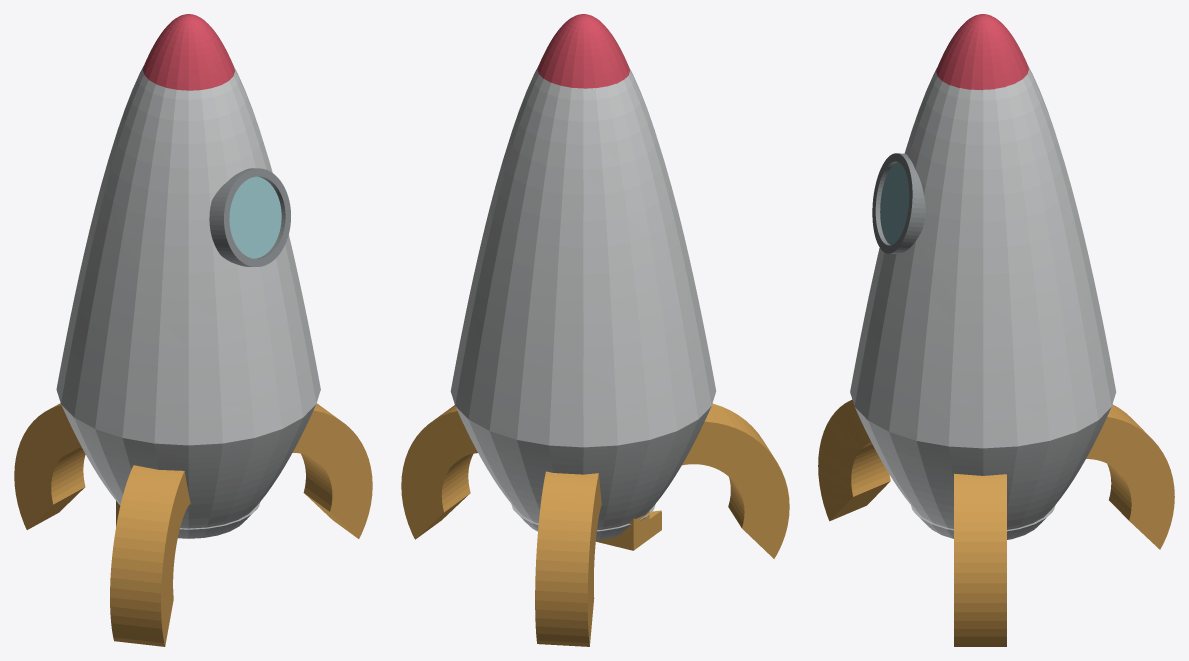
File: Rocket.glb
3 renders of one model, left to right at view 1: azimuth 30°, elevation 25°; view 2: azimuth 150°, elevation 25°; view 3: azimuth 270°, elevation 25°, orthographic.
Parts seen in each view (by area): view 1: Mesh_Mesh_head_geo.001_lambert2SG.001; view 2: Mesh_Mesh_head_geo.001_lambert2SG.001; view 3: Mesh_Mesh_head_geo.001_lambert2SG.001.
Part boxes in pixels (left/top/right/bottom): Mesh_Mesh_head_geo.001_lambert2SG.001: left=14, top=14, right=372, bottom=646; Mesh_Mesh_head_geo.001_lambert2SG.001: left=401, top=14, right=789, bottom=646; Mesh_Mesh_head_geo.001_lambert2SG.001: left=818, top=14, right=1174, bottom=646.
Bounding box in the file's own units: 0.034 × 0.0575 × 0.0335.
